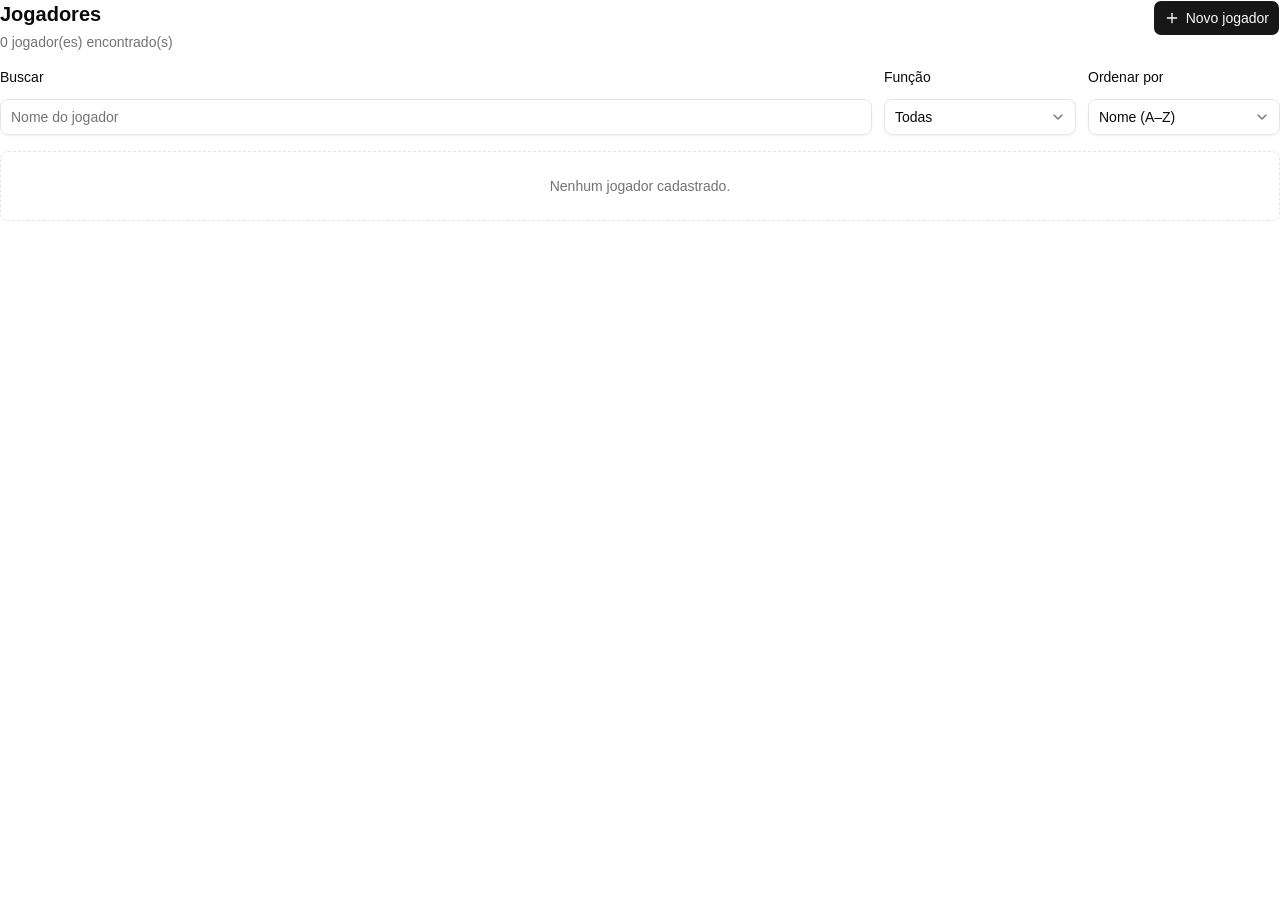
PlayersPage › valida o formulário antes de enviar
Expected: the text "Nenhum jogador cadastrado." is shown, [0, 151, 1279, 221]
Click the button "Novo jogador": x=1216, y=18 [1153, 0, 1279, 36]
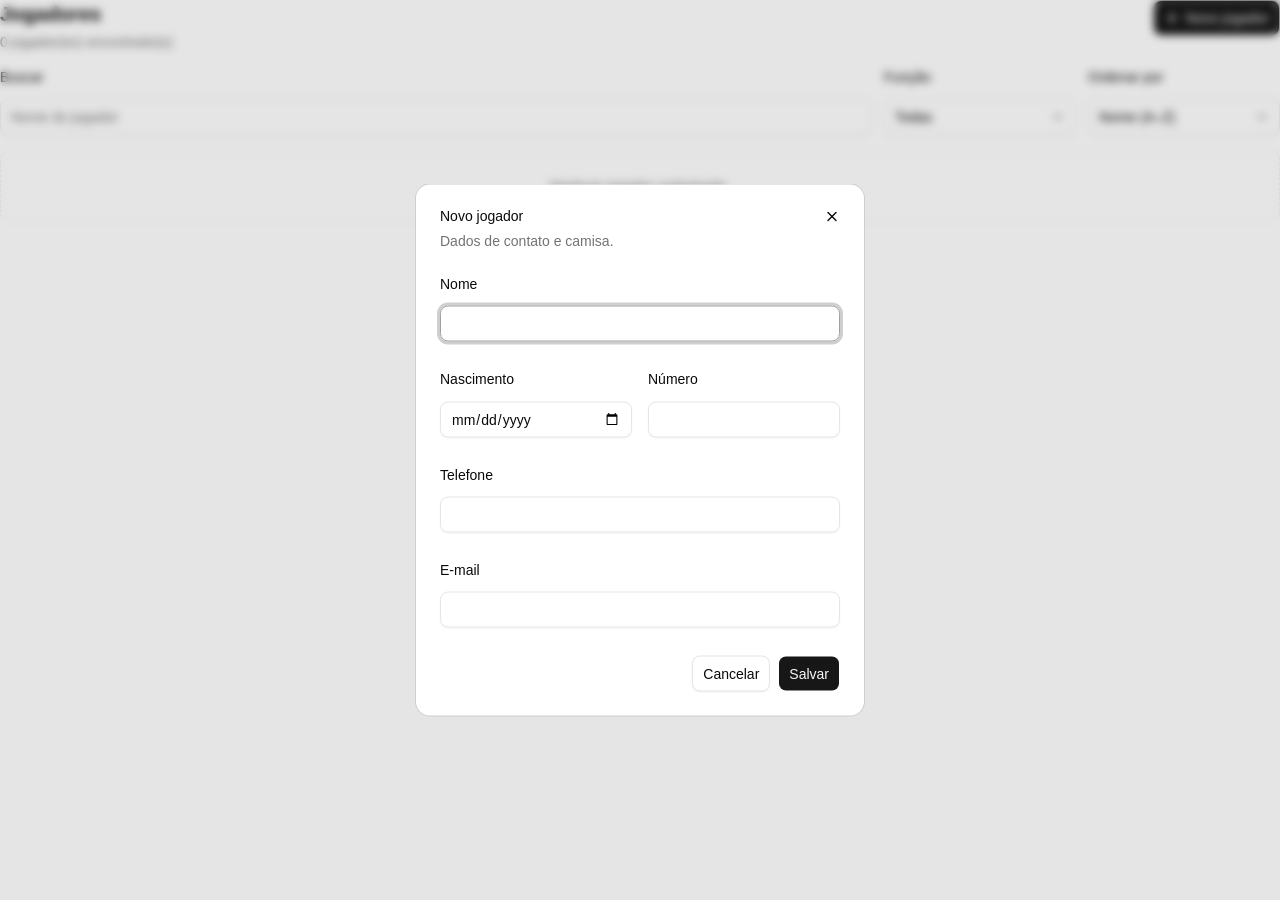
In the field labelled "E-mail": x=640, y=610 [440, 592, 840, 628], type "invalido"
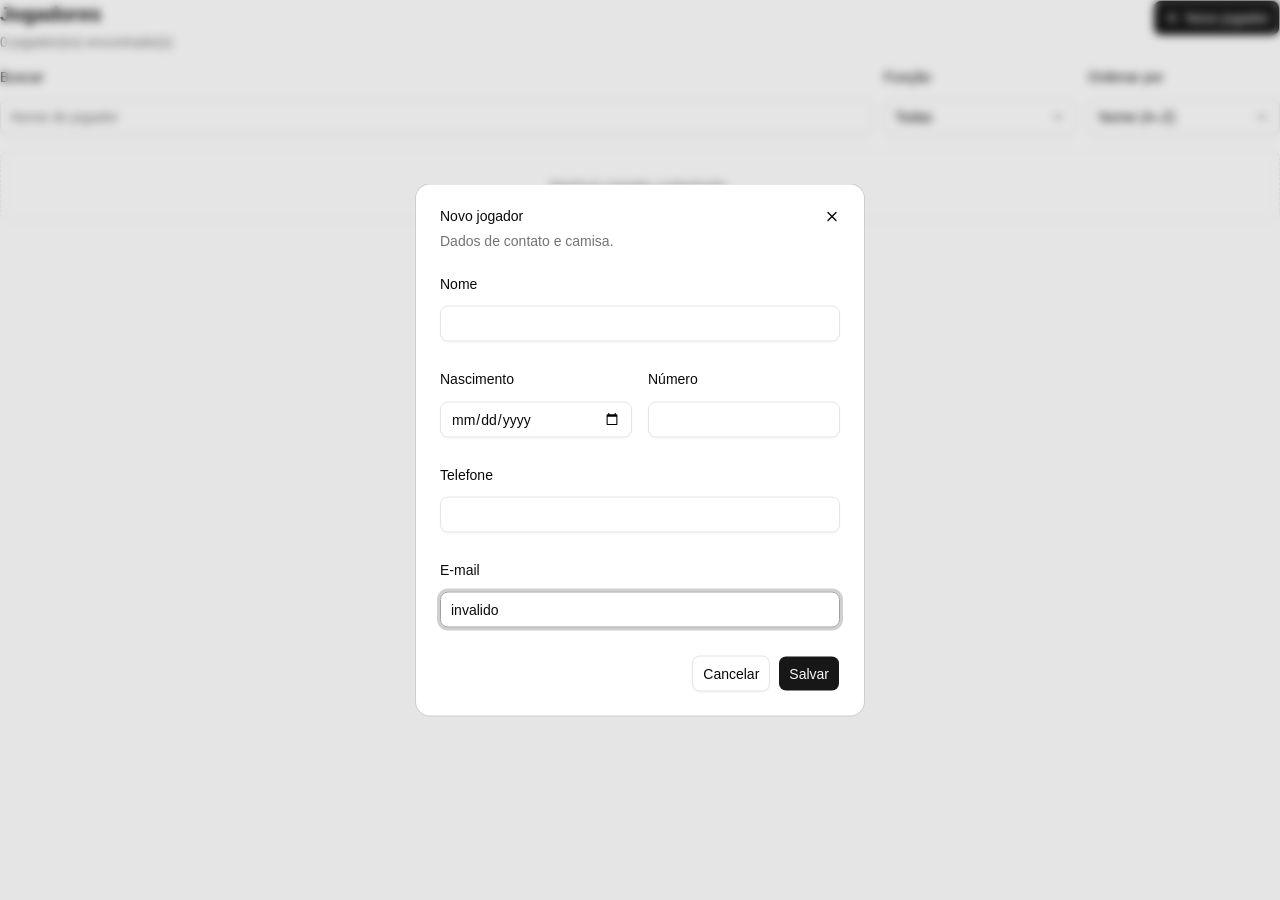
In the field labelled "Número": x=744, y=419 [648, 401, 840, 437], type "-3"
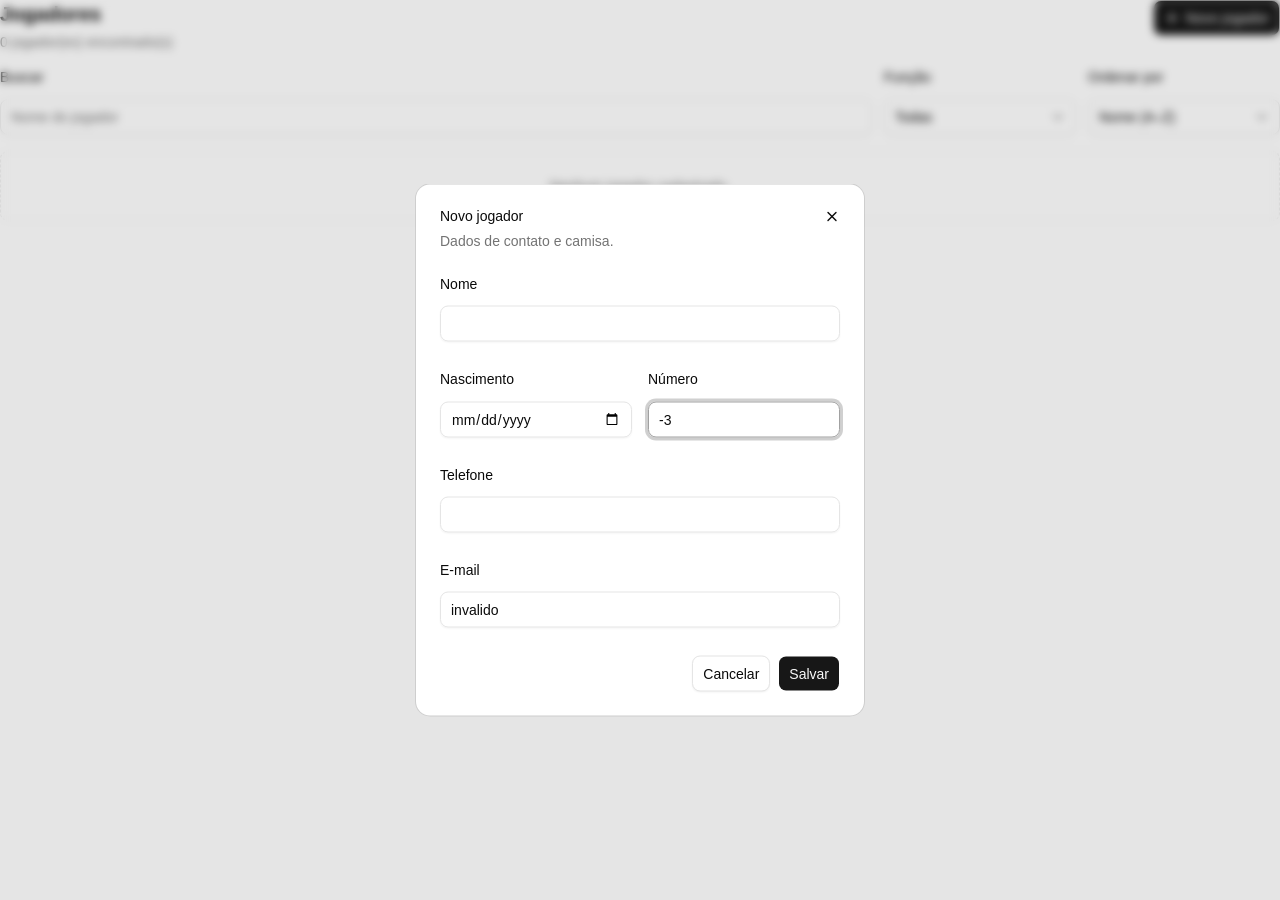
Click the button "Salvar": x=809, y=674 [778, 656, 840, 692]
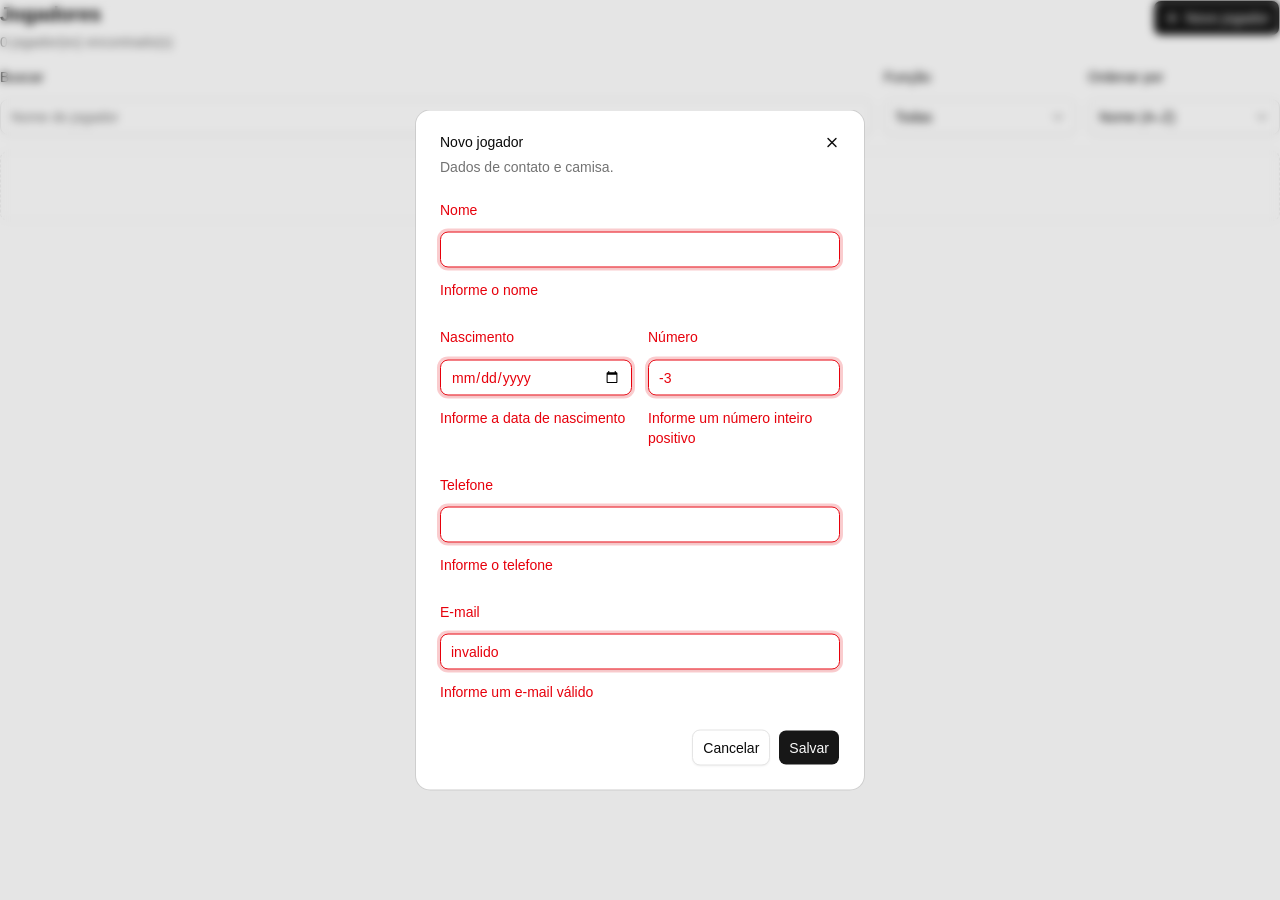
Expected: the text "Informe o nome" is shown, [440, 282, 538, 298]
Expected: the text "Informe um e-mail válido" is shown, [440, 684, 593, 700]
Expected: the text "Informe um número inteiro positivo" is shown, [648, 407, 840, 447]
